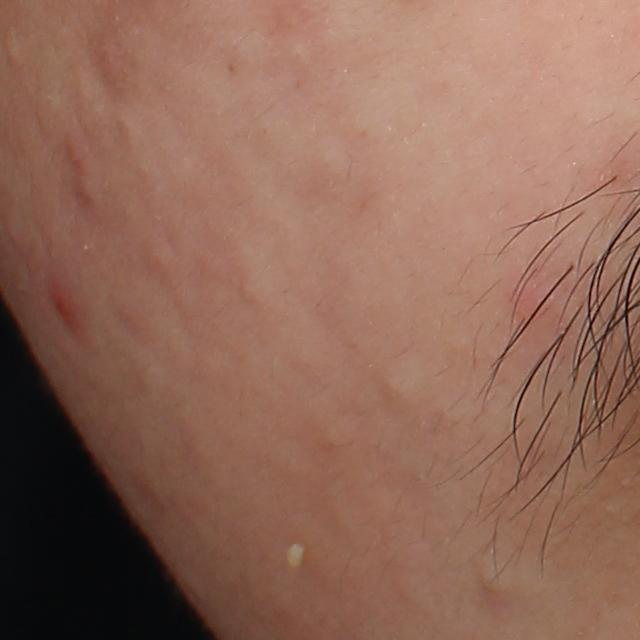comedo: (369, 366, 426, 417), (476, 551, 517, 599), (0, 28, 25, 72)
other: (284, 541, 310, 574)
papule: (46, 279, 86, 332), (62, 137, 86, 174)
